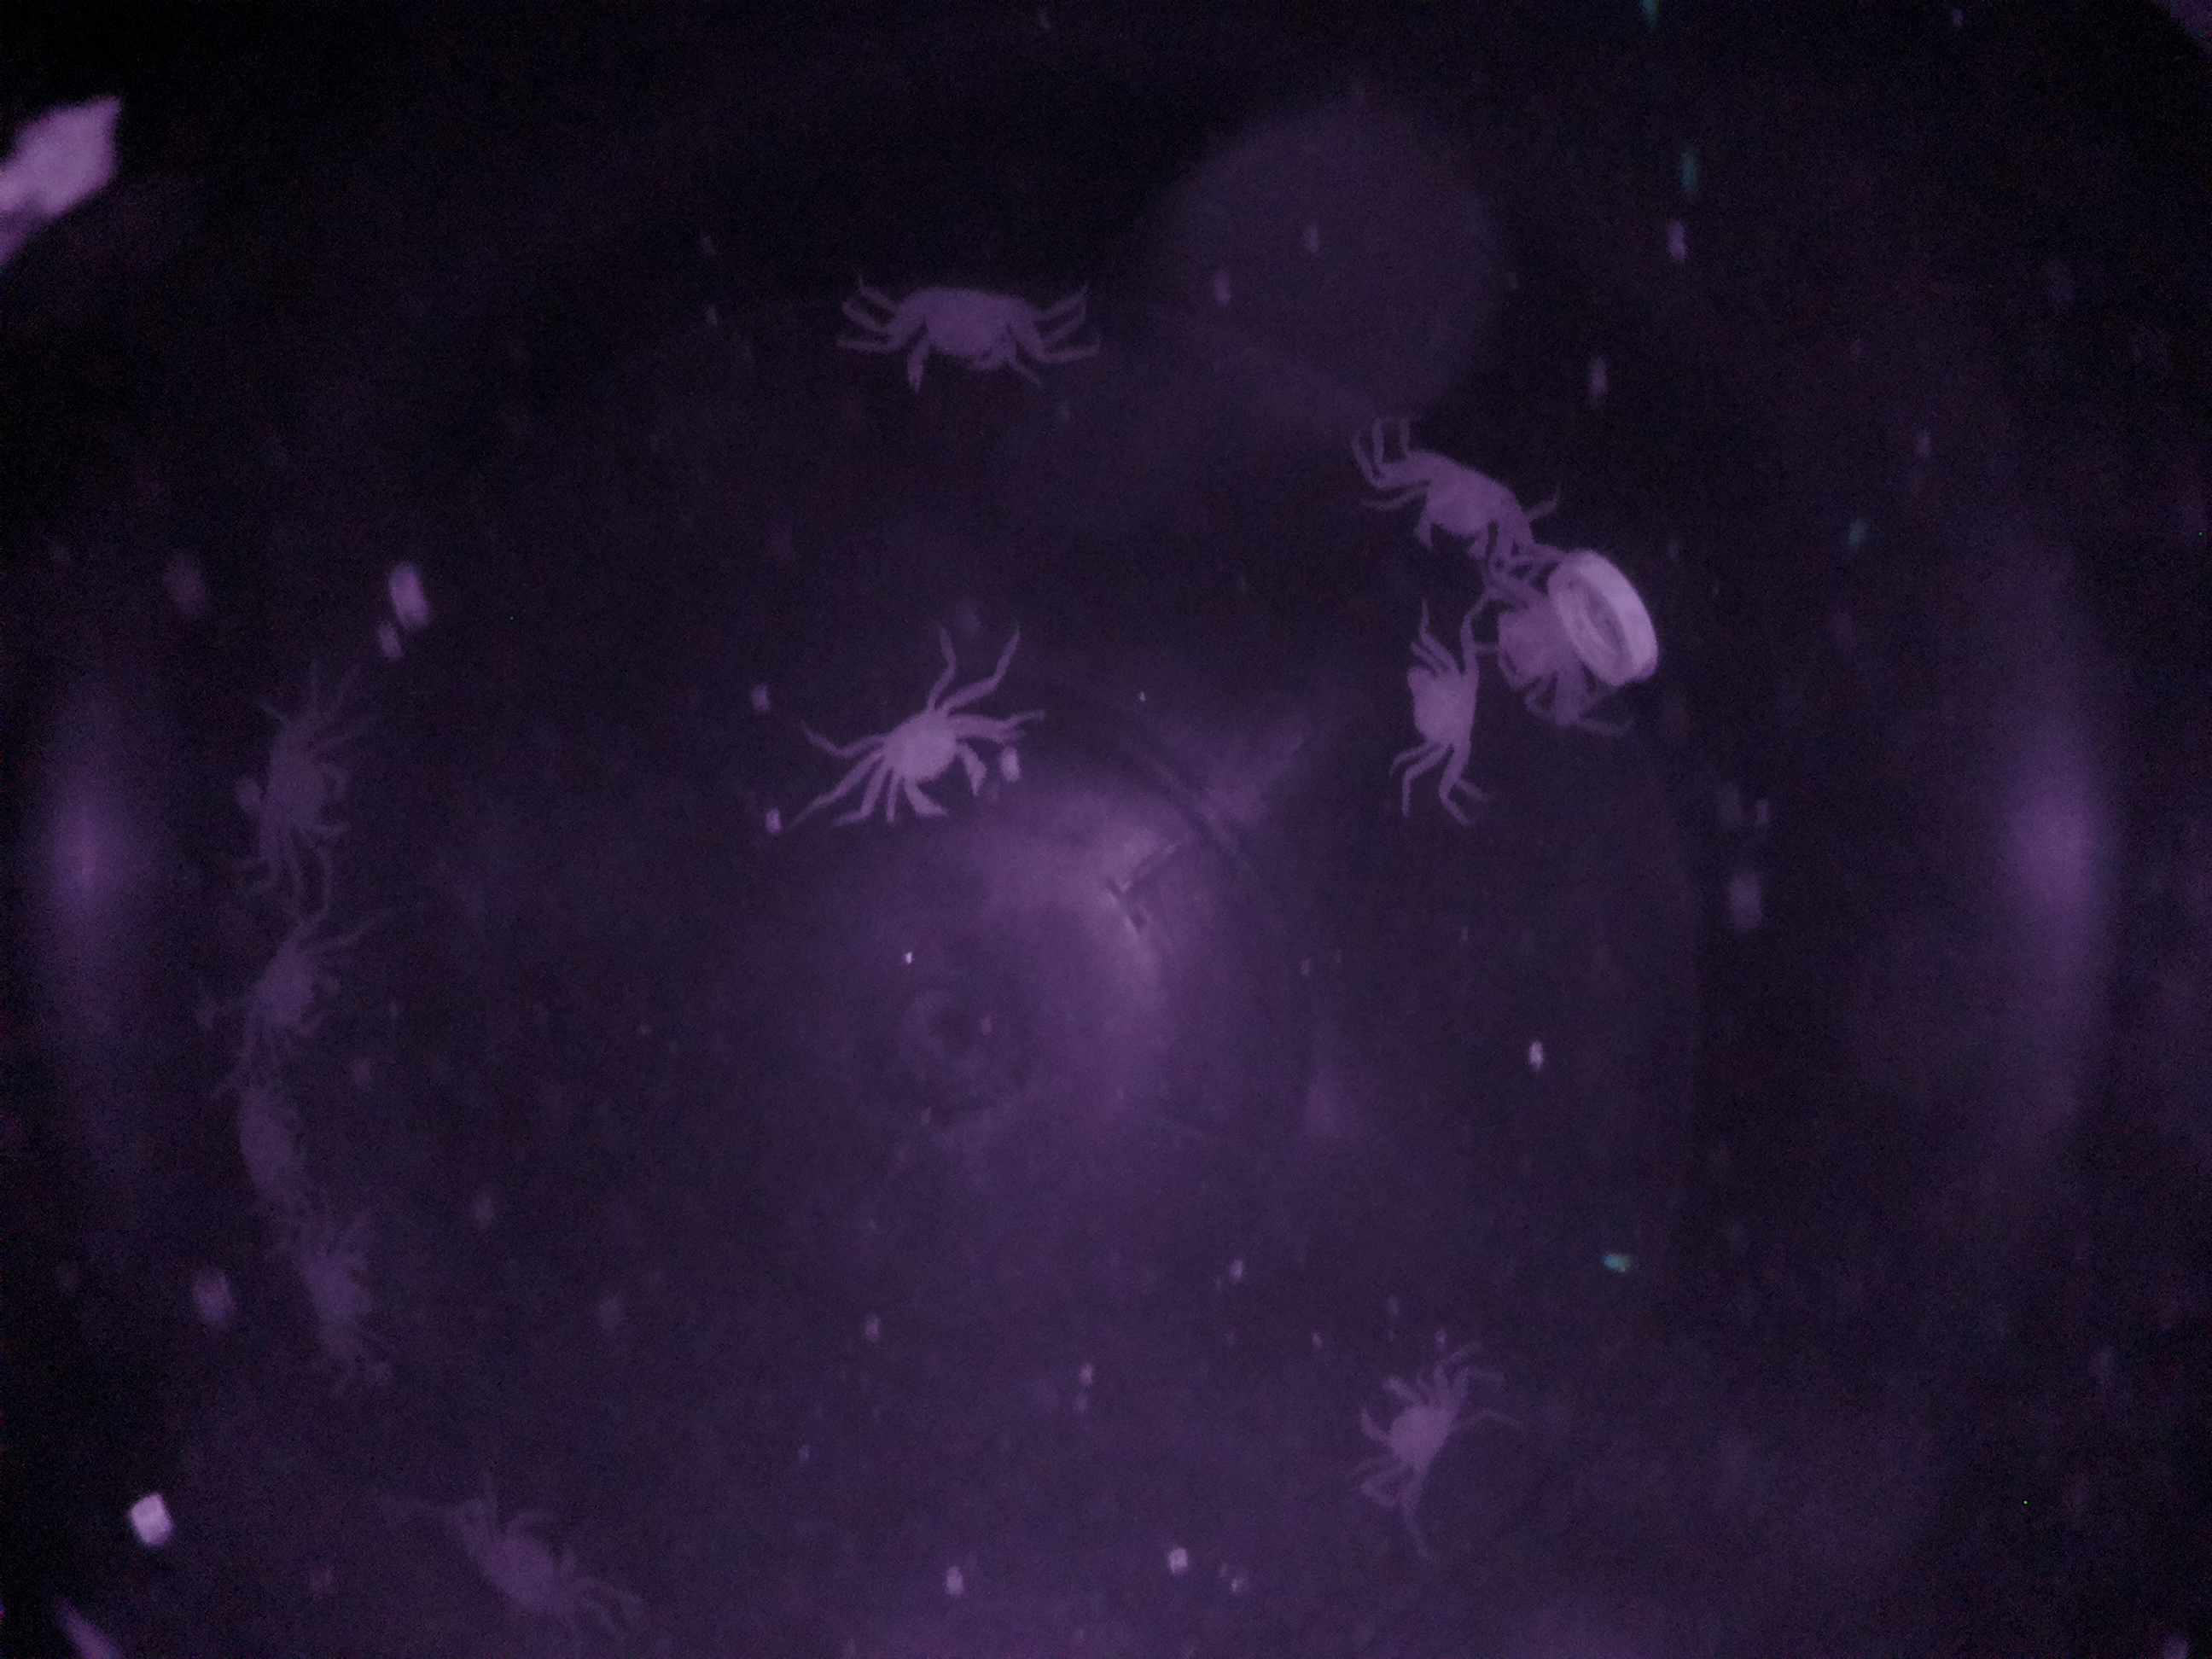Crab: (855, 261, 1071, 416), (852, 678, 1026, 842), (1341, 1352, 1500, 1521), (1379, 436, 1552, 575), (1366, 633, 1501, 795)
